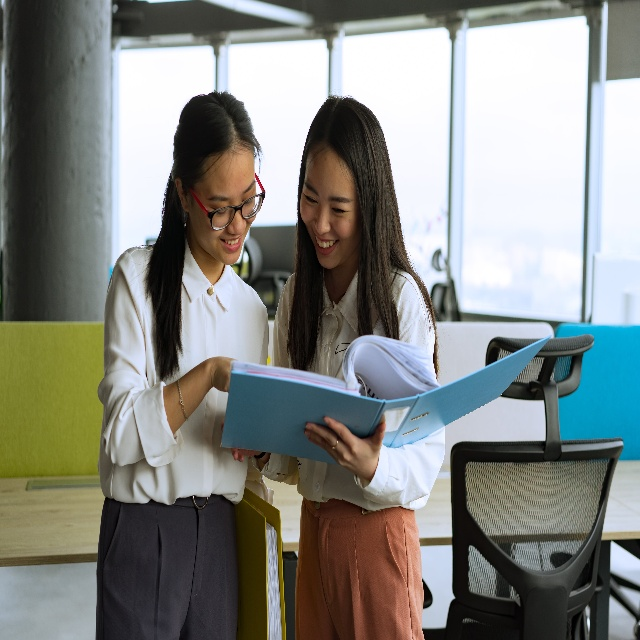Gafas: (188, 170, 266, 230)
Sin_guantes: (304, 411, 386, 477)
